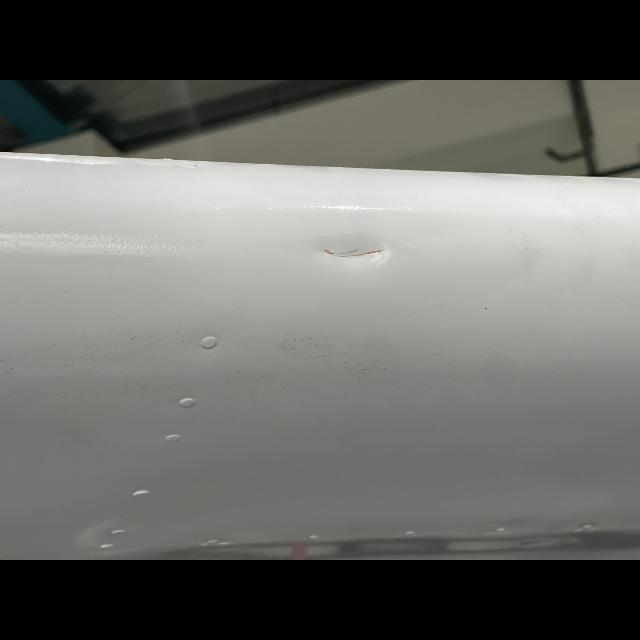dent: (292, 225, 414, 268)
